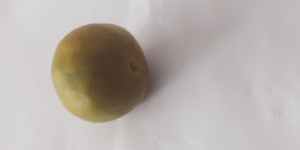BAD: (49, 22, 146, 125)
